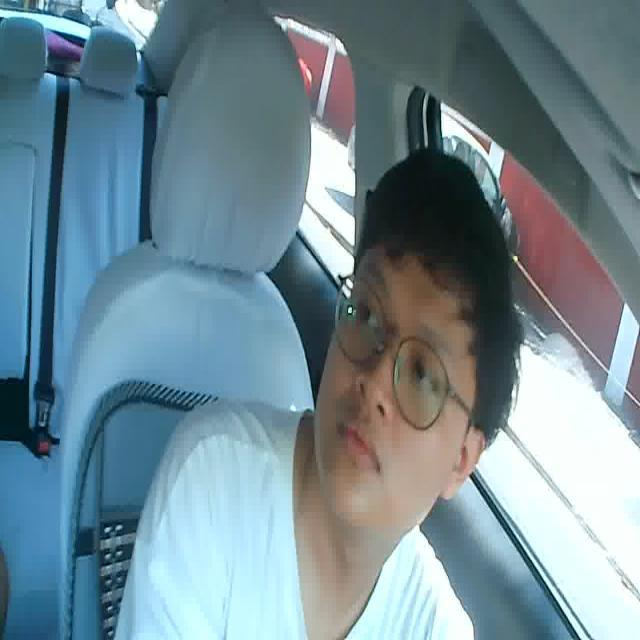Eye-Open: (349, 295, 388, 337), (403, 352, 442, 394)
Inattentive: (311, 147, 523, 528)
Normal: (334, 419, 384, 477)
